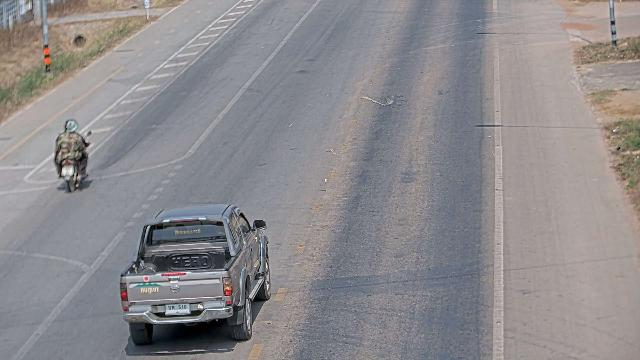motorcycle: (53, 119, 93, 192)
pickup-truck: (119, 202, 272, 346)
